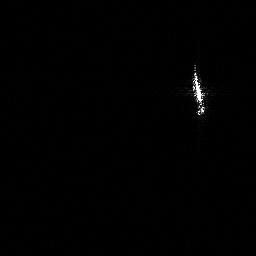ship: (189, 64, 209, 118)
